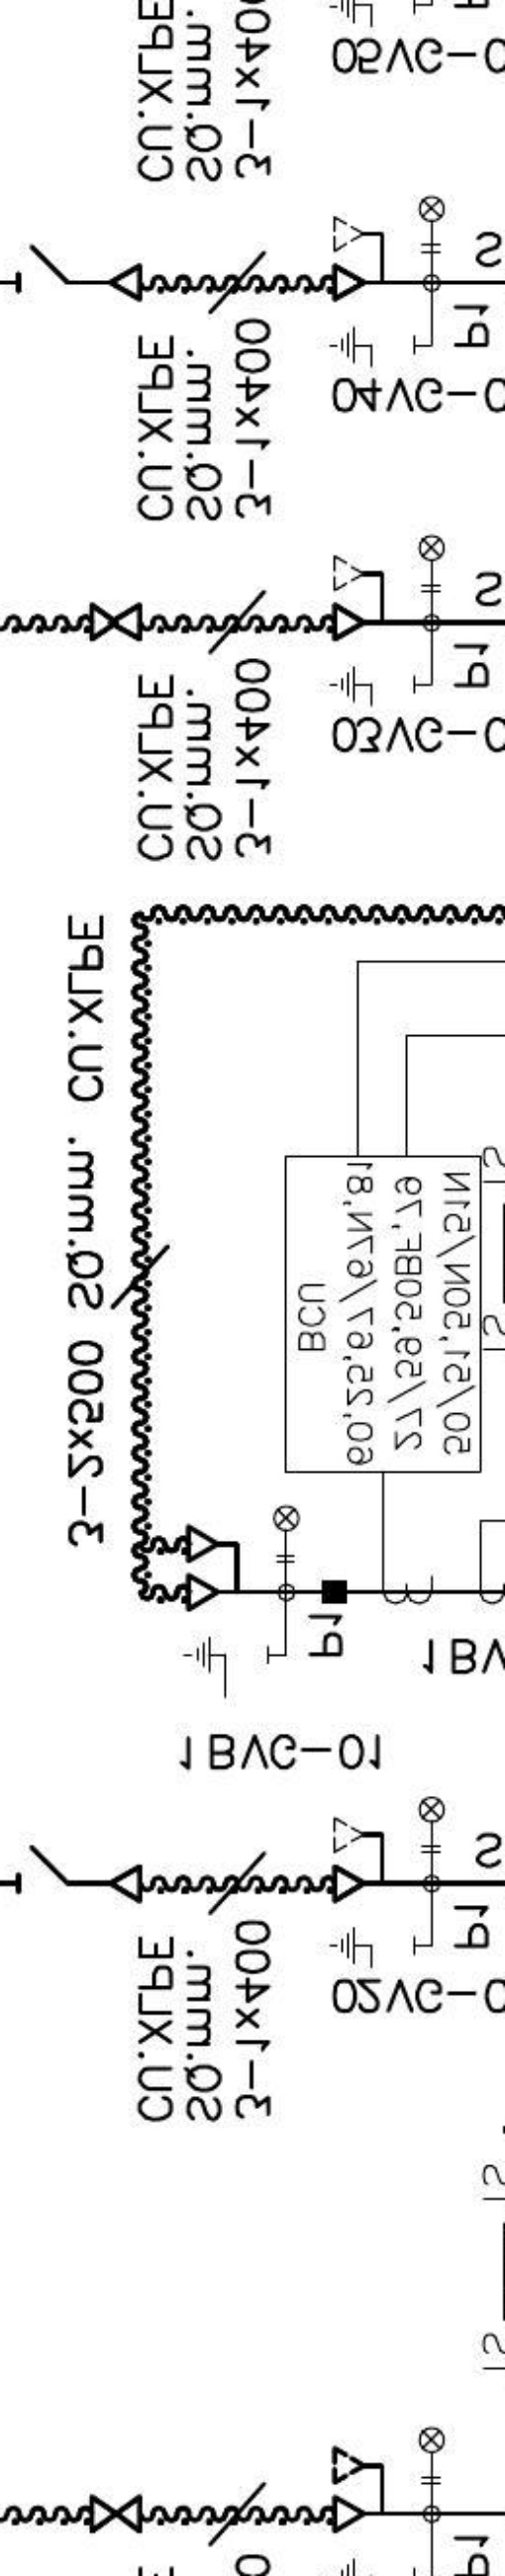22_gs: (183, 1633, 273, 1700), (329, 1924, 418, 1971), (329, 664, 418, 710), (331, 324, 419, 370)
22_ll: (418, 532, 447, 595), (271, 1503, 301, 1564), (418, 194, 447, 255), (416, 1796, 446, 1855), (418, 2426, 446, 2486)
terminator_double: (184, 1523, 242, 1613)
terminator_single: (109, 261, 145, 306), (109, 1861, 145, 1906)
terminator_splicing_kits: (89, 2494, 143, 2535), (89, 601, 143, 642)
terminator_w_future: (329, 1814, 387, 1906), (331, 212, 388, 304), (331, 2445, 387, 2537), (331, 552, 387, 642)
